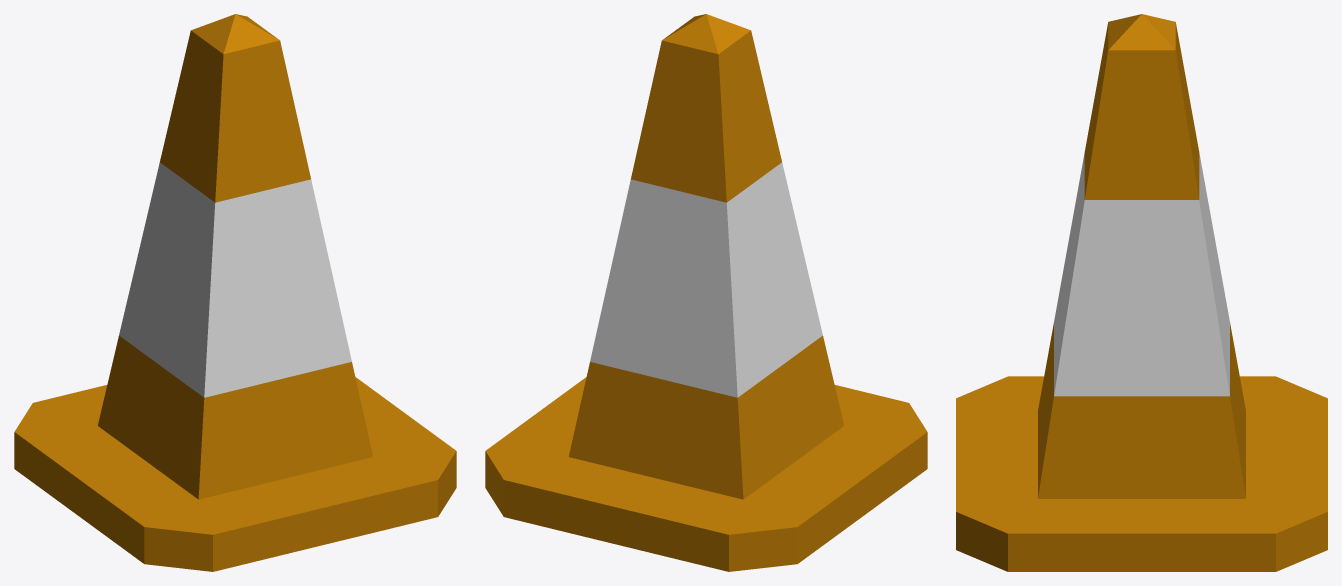
Rendered from Cone 1 Fractured.fbx.
3 renders of one model, left to right at view 1: azimuth 30°, elevation 25°; view 2: azimuth 150°, elevation 25°; view 3: azimuth 270°, elevation 25°, orthographic. The views are drawn at different scales.
Visible parts, largest first — view 1: Cone_01_Breaking, Cone_01_Breaking.001; view 2: Cone_01_Breaking, Cone_01_Breaking.001; view 3: Cone_01_Breaking, Cone_01_Breaking.001.
Part boxes in pixels (left/top/right/bottom): Cone_01_Breaking: left=14, top=222, right=456, bottom=571; Cone_01_Breaking.001: left=145, top=14, right=348, bottom=347; Cone_01_Breaking: left=485, top=222, right=927, bottom=571; Cone_01_Breaking.001: left=593, top=14, right=796, bottom=347; Cone_01_Breaking: left=956, top=212, right=1327, bottom=571; Cone_01_Breaking.001: left=1056, top=14, right=1227, bottom=381.
Size of the model in its own units: 36.83 by 52.37 by 36.83.
